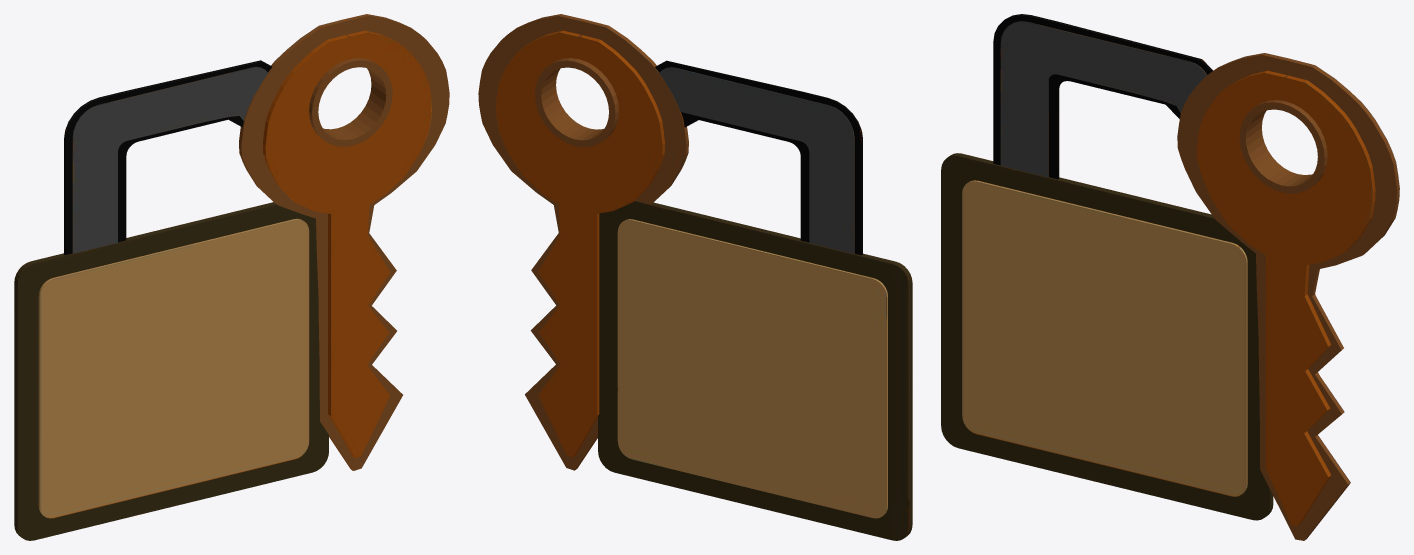
File: Admin_badge.glb
3 views of the same model, side by side, from view 1: azimuth 30°, elevation 25°; view 2: azimuth 150°, elevation 25°; view 3: azimuth 330°, elevation 25° (orthographic). The views are drawn at different scales.
Parts seen in each view (by area): view 1: Admin Badge; view 2: Admin Badge; view 3: Admin Badge.
Part boxes in pixels (x1,y1,x2,y2): Admin Badge: (14, 14, 449, 540); Admin Badge: (478, 14, 912, 540); Admin Badge: (941, 14, 1399, 540).
Bounding box in the file's own units: 0.0784 × 0.0784 × 0.00465.
Materials: 1 (1 with a texture image).
